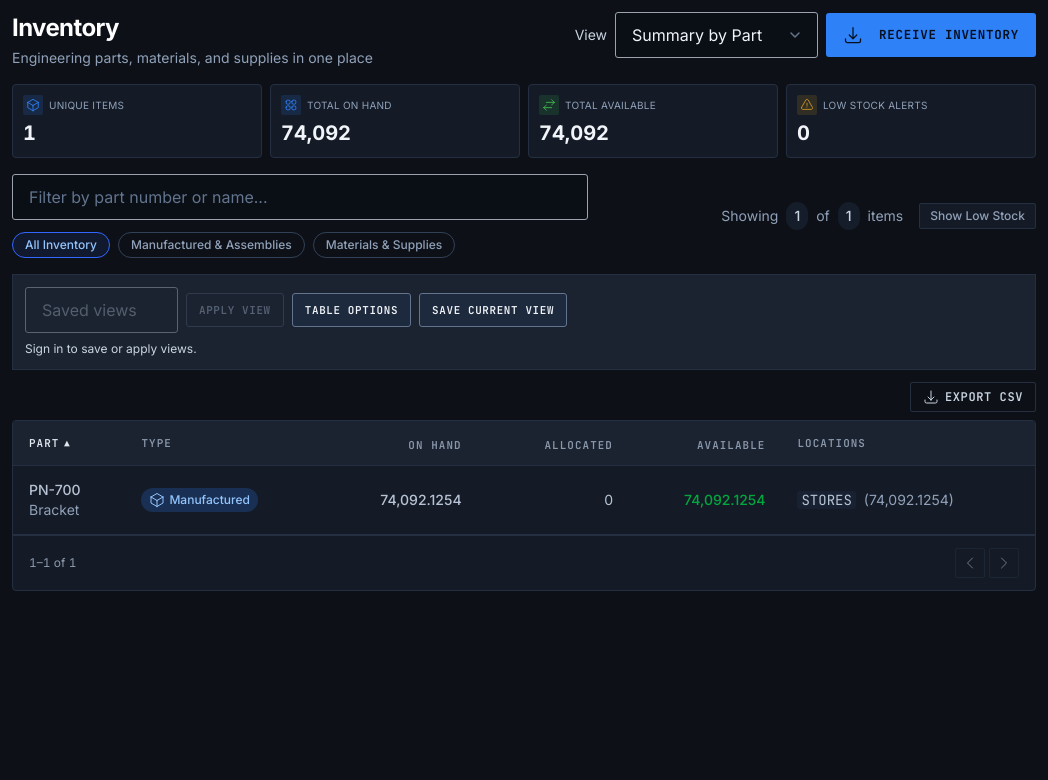
Test: groups quantities in the KPI strip, primary cells and locations without rounding row quantities
Expected: the text "74,092" is shown 2 times, [281,121,351,145]; [539,121,609,145]
Expected: the text "74,092.1254" is shown 2 times, [325,466,478,535]; [629,466,782,535]
Select "Detail by Location" in the dropdown named "Inventory view" at point(717, 35), box [615,12,818,58]
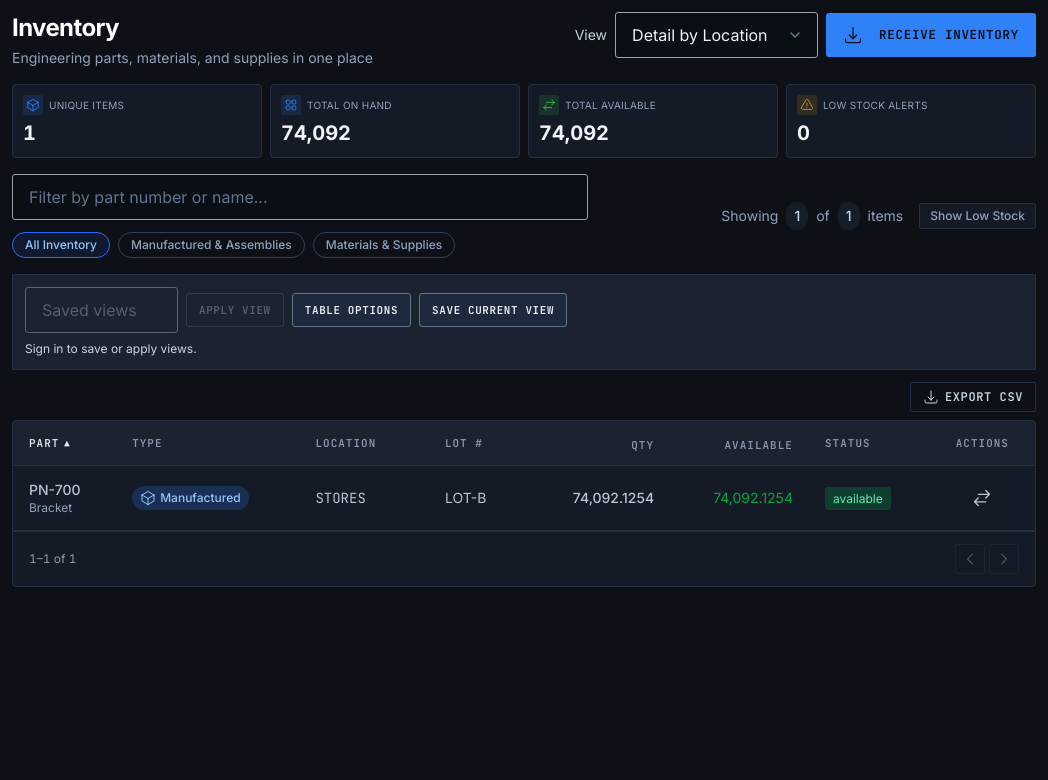
Now the text "74,092.1254" is shown 2 times, box [530,466,670,531]; [670,466,809,531]
